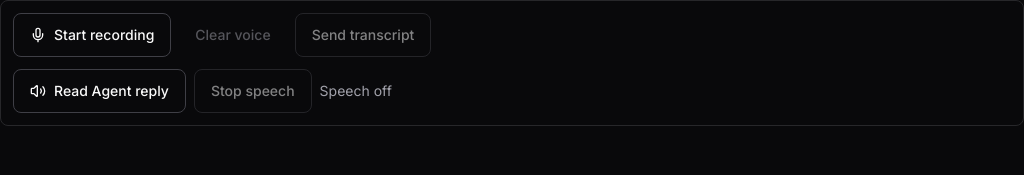
Test: Agent voice controls › plays only on request, stops, and interrupts playback to record
The width and height of the screenshot is (1024, 175).
Step 1. Click the button "Read Agent reply" → (99, 91), box [13,69,186,113]
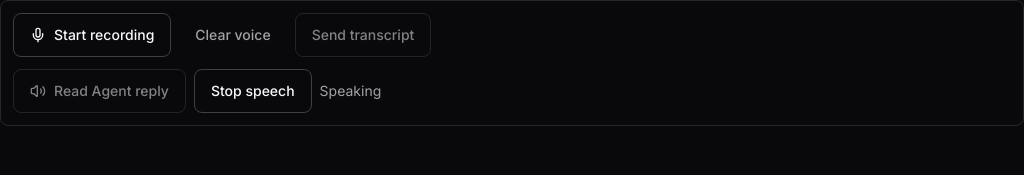
Check: the message with test id "agent-speech-status" reads "Speaking", box [320,82,381,99]
Step 2. Click the button "Stop speech" → (253, 91), box [194,69,312,113]
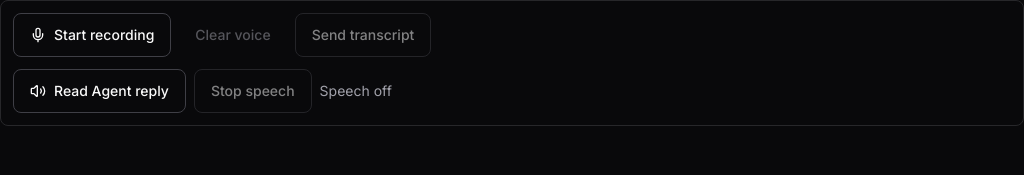
Step 3. Click the button "Read Agent reply" → (99, 91), box [13,69,186,113]
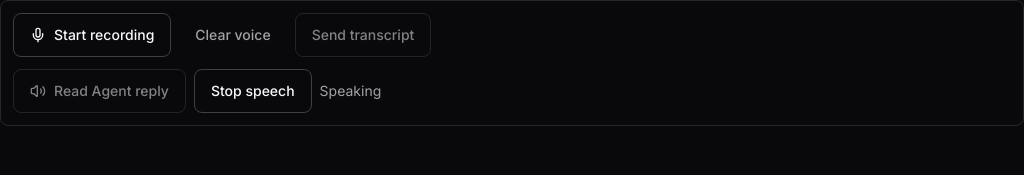
Step 4. Click the button "Start recording" → (92, 35), box [13,13,171,57]
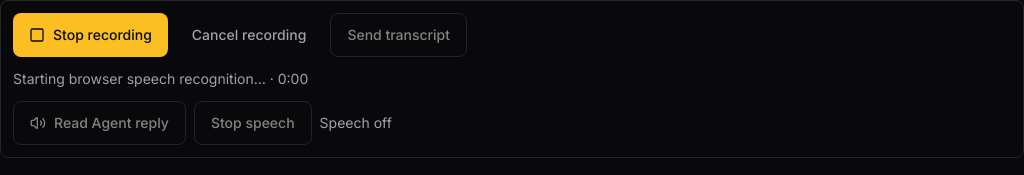
Check: the message with test id "agent-speech-status" reads "Speech off", box [320,114,392,131]
